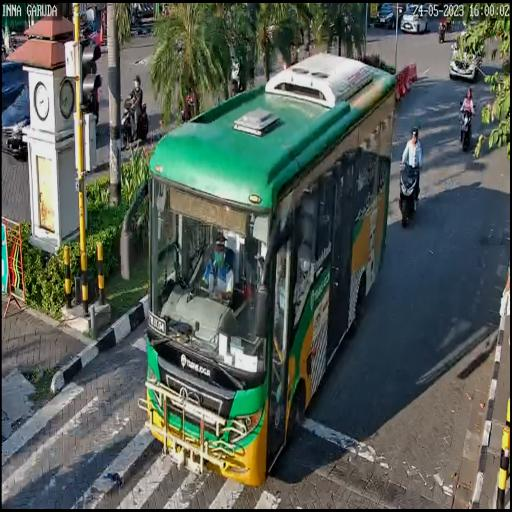mobil: (143, 54, 396, 485)
motor: (398, 156, 422, 230), (459, 100, 476, 153)
